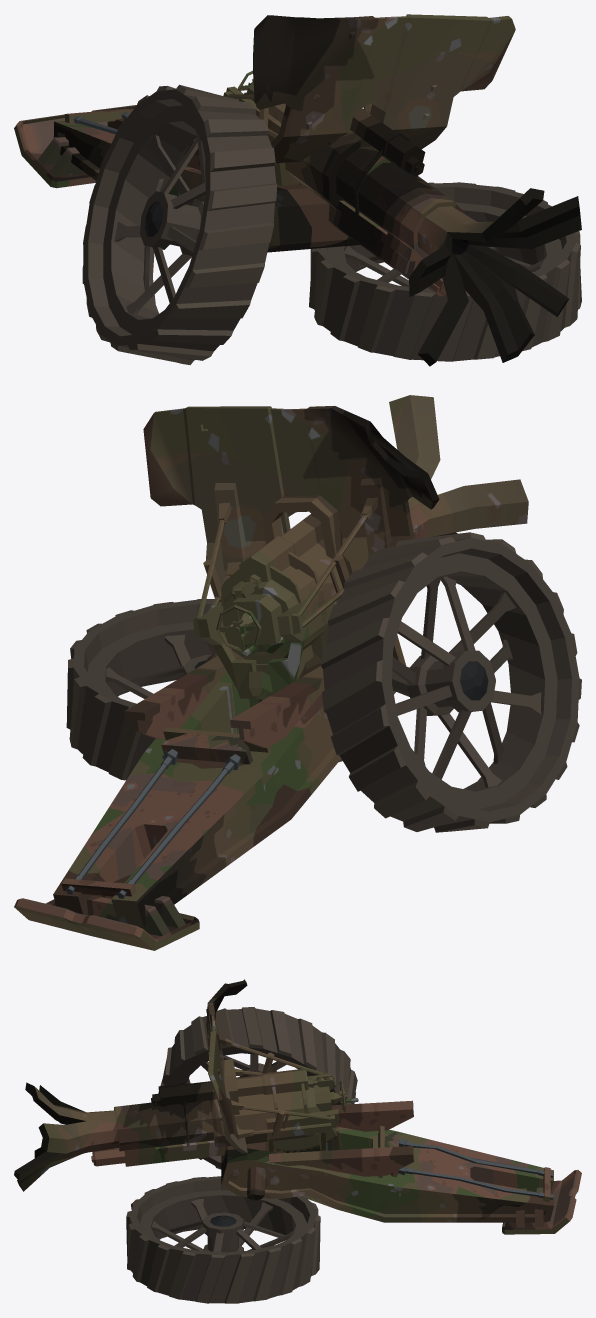
The model's file is SM_Veh_Artillery_01_Destroyed.fbx.
The picture shows the model from 3 angles, top to bottom: view 1: azimuth 30°, elevation 25°; view 2: azimuth 150°, elevation 25°; view 3: azimuth 270°, elevation 25°; orthographic projection. The views are drawn at different scales.
Visible parts, largest first — view 1: SM_Veh_Artillery_01_Destroyed; view 2: SM_Veh_Artillery_01_Destroyed; view 3: SM_Veh_Artillery_01_Destroyed.
Part boxes in pixels (x1,y1,x2,y2): SM_Veh_Artillery_01_Destroyed: (14, 14, 581, 366); SM_Veh_Artillery_01_Destroyed: (14, 395, 581, 950); SM_Veh_Artillery_01_Destroyed: (14, 979, 581, 1303).
Bounding box in the file's own units: 344 × 247 × 546.
